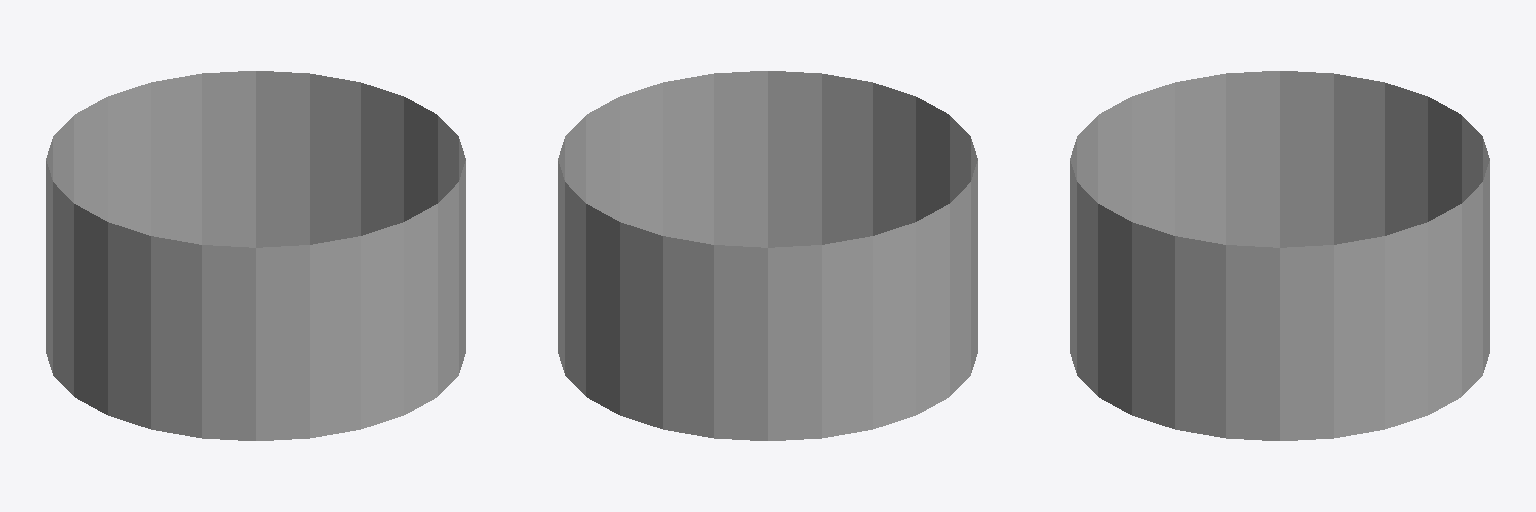
Rendered from original-70.obj.
The picture shows the model from 3 angles: view 1: azimuth 30°, elevation 25°; view 2: azimuth 150°, elevation 25°; view 3: azimuth 270°, elevation 25°; orthographic projection.
Visible parts, largest first — view 1: #ID469; view 2: #ID469; view 3: #ID469.
Part boxes in pixels (x1,y1,x2,y2): #ID469: (46, 71, 465, 440); #ID469: (558, 71, 977, 440); #ID469: (1070, 71, 1489, 440).
Size of the model in its own units: 0.0451 by 0.023 by 0.0451.